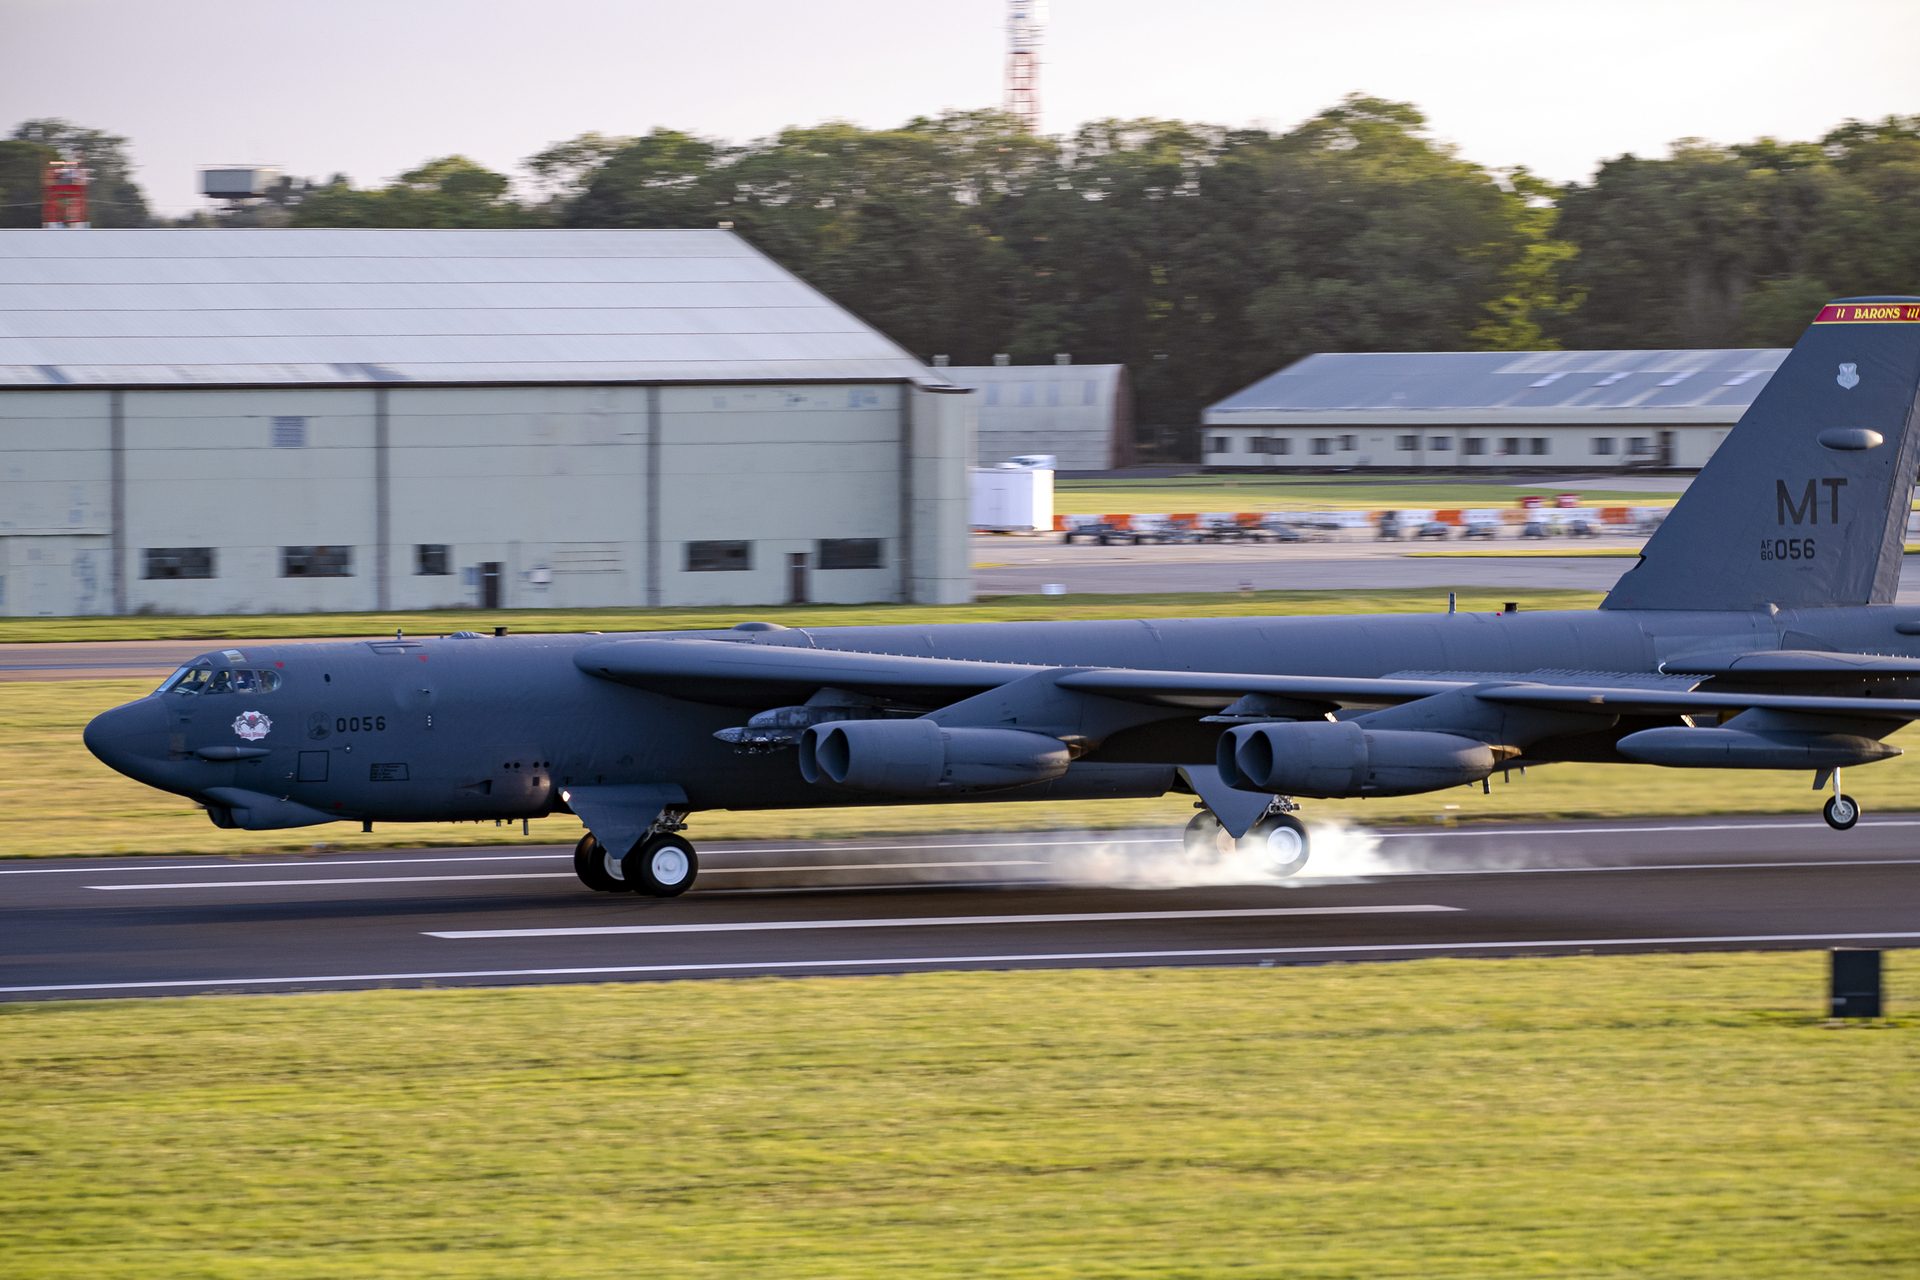B52: (83, 294, 1920, 899)
